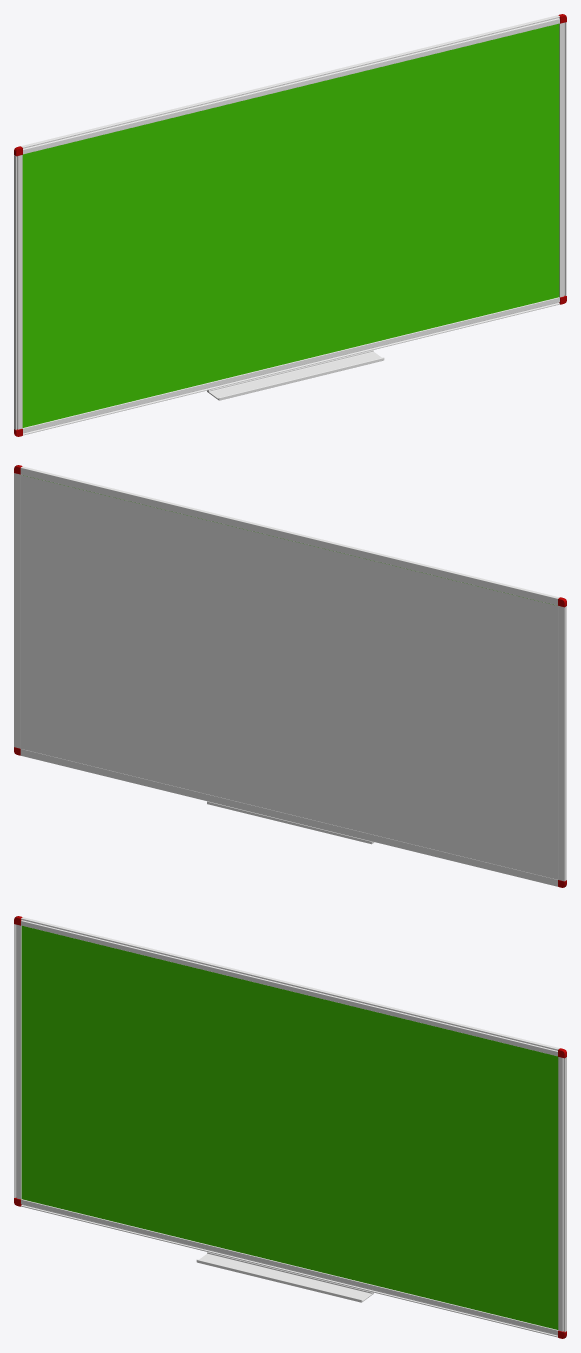
The model's file is WhiteBoard01.fbx.
3 renders of one model, top to bottom at view 1: azimuth 30°, elevation 25°; view 2: azimuth 150°, elevation 25°; view 3: azimuth 330°, elevation 25°, orthographic.
Visible parts, largest first — view 1: WhiteBoard01; view 2: WhiteBoard01; view 3: WhiteBoard01.
Boxes of the visible parts, box(x1,y1,x2,y2) form: WhiteBoard01: box(14, 14, 566, 436); WhiteBoard01: box(14, 465, 566, 887); WhiteBoard01: box(14, 916, 566, 1338).
Bounding box in the file's own units: 200 × 7.85 × 101.
